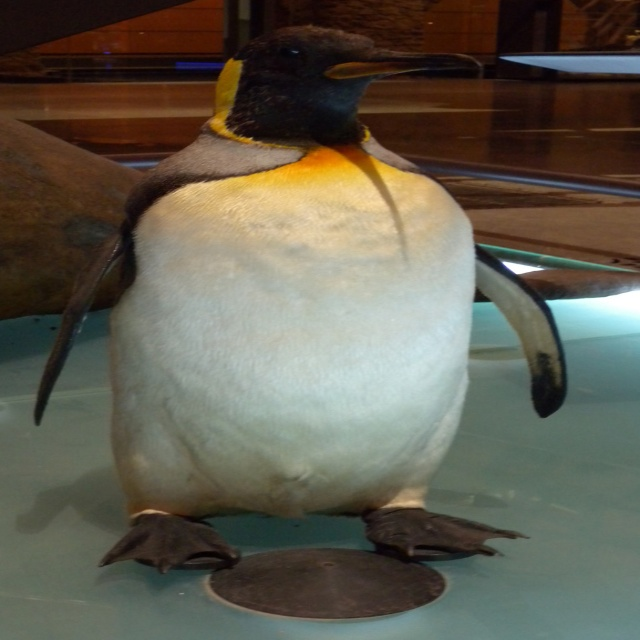Penguin: (41, 47, 537, 572)
